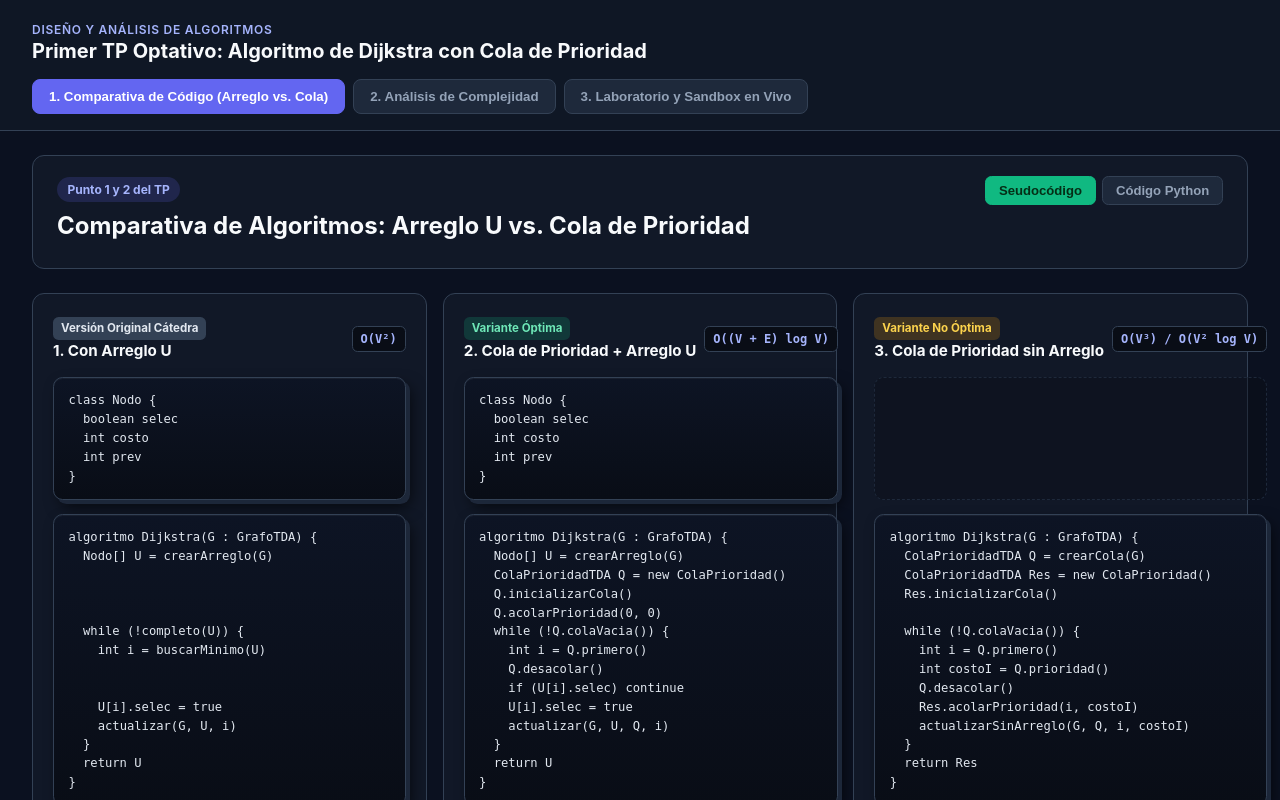
Test case: Aplicación de Presentación TP Optativo 1 - Dijkstra › muestra las 3 versiones en paralelo con la misma cantidad de líneas alineadas horizontalmente y permite cambiar a Python
expect the heading "Comparativa de Algoritmos: Arreglo U vs. Cola de Prioridad" is shown: met, box [57,208,750,244]
expect the heading "1. Con Arreglo U" is shown: met, box [53,341,172,360]
Click the button "Código Python" at x=1163, y=190, box [1102,176,1223,205]
(page scrolled)
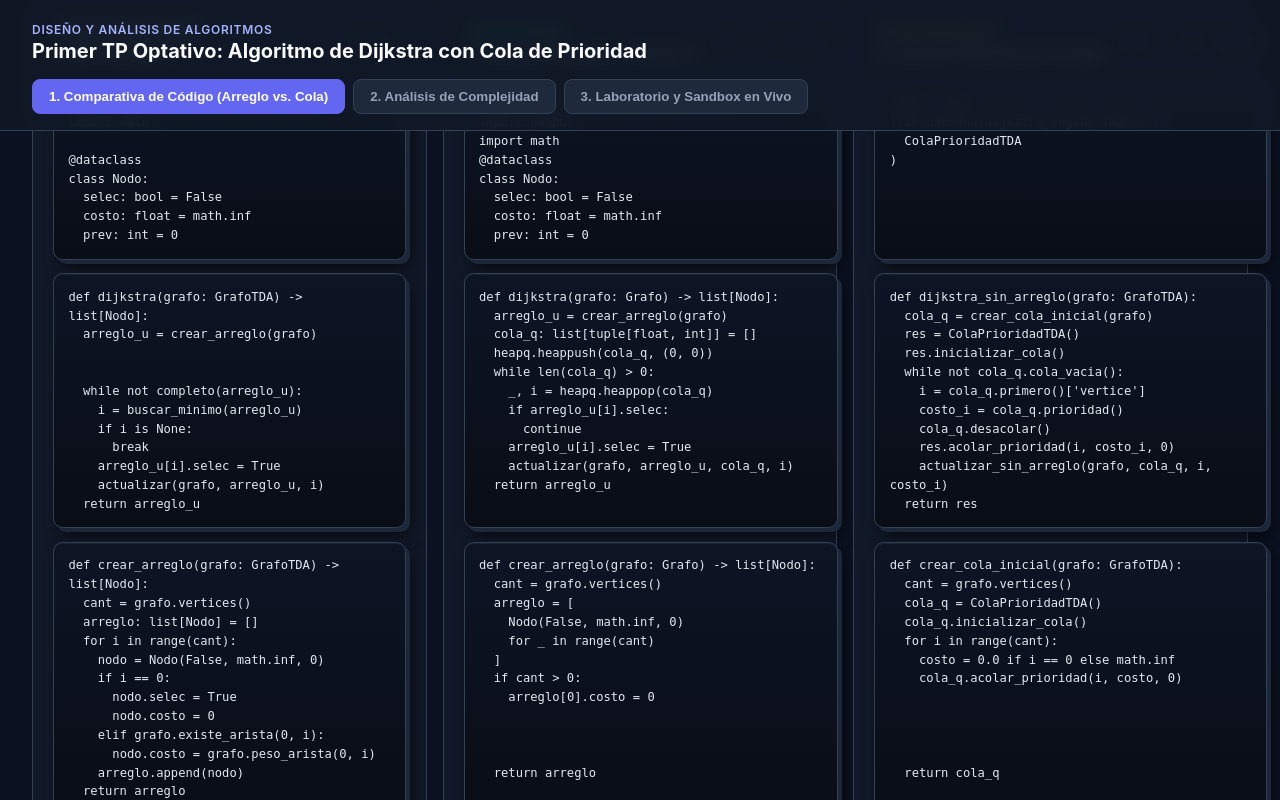
expect the text "def dijkstra" is shown: met, box [68,290,325,511]
